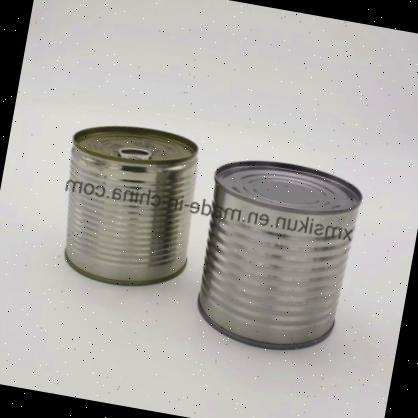can: (184, 150, 367, 361), (48, 116, 210, 298)
